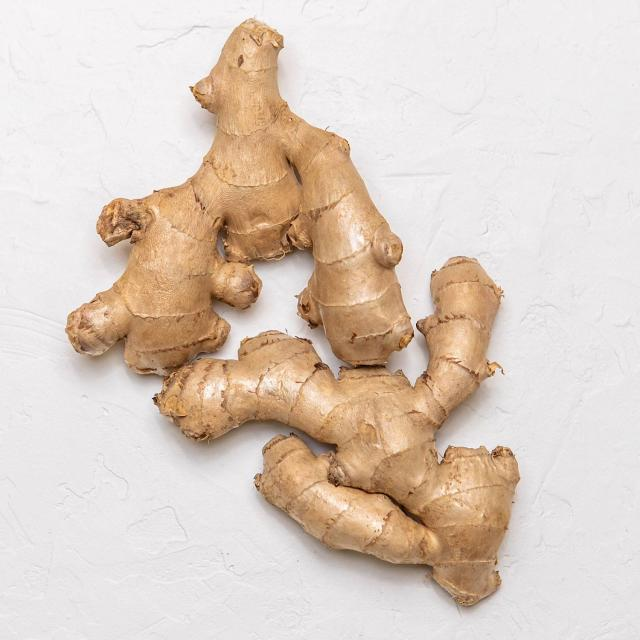ginger-root: (122, 222, 587, 621), (55, 0, 418, 414)
